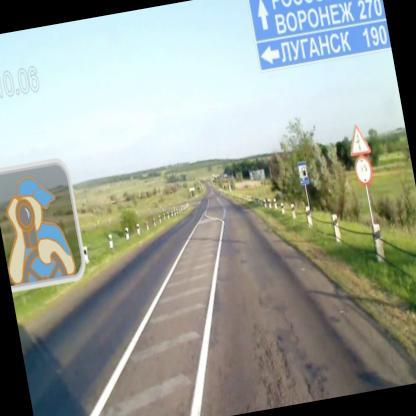road_sign: (352, 125, 371, 157), (356, 157, 374, 184), (299, 162, 308, 185)
